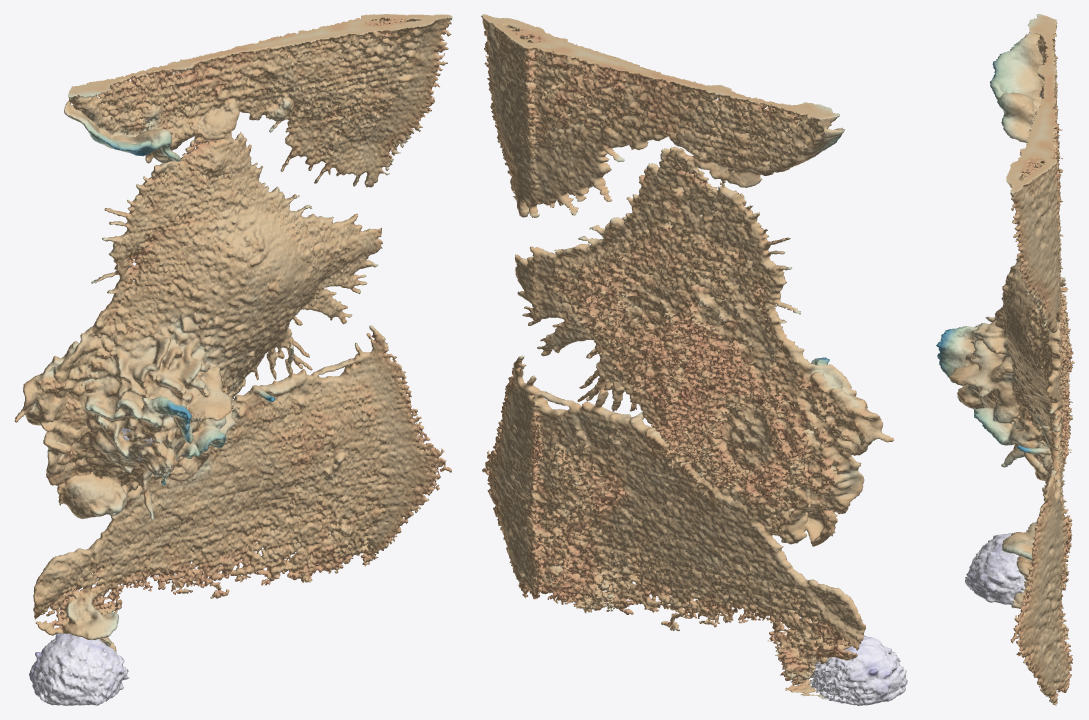
Rendered from Surfaces_17.glb.
3 views of the same model, side by side, from view 1: azimuth 30°, elevation 25°; view 2: azimuth 150°, elevation 25°; view 3: azimuth 270°, elevation 25° (orthographic).
Visible parts, largest first — view 1: surface (×2); view 2: surface (×2); view 3: surface (×2).
Boxes of the visible parts, x1,y1,x2,y2 form: surface (×2): (14, 14, 452, 705); surface (×2): (481, 14, 907, 705); surface (×2): (936, 14, 1074, 705).
Size of the model in its own units: 584 by 764 by 167.
